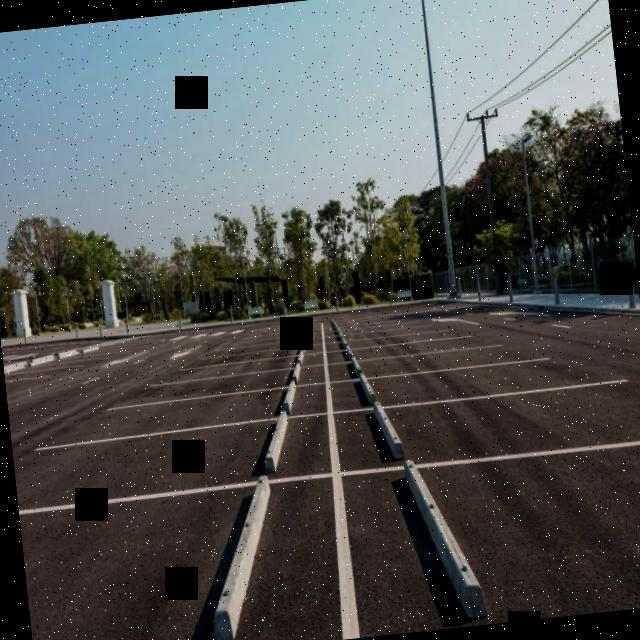free: (408, 437, 640, 607), (17, 477, 252, 640), (377, 373, 640, 476), (16, 415, 276, 515), (35, 385, 284, 450), (367, 350, 629, 411), (106, 367, 294, 412), (356, 342, 552, 380), (150, 353, 297, 387), (349, 334, 503, 363)
